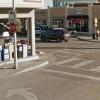Crosswalk: (58, 53, 100, 78)
